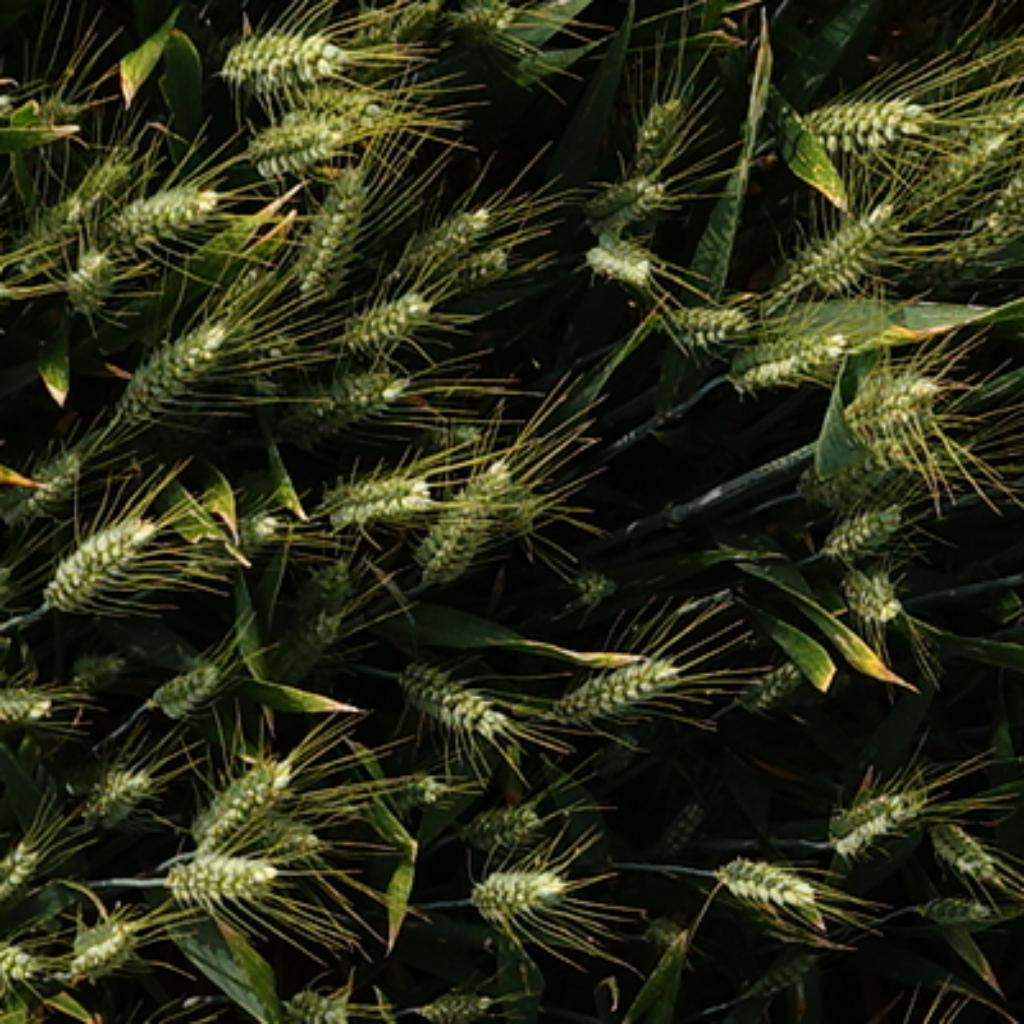0-0: (412, 445, 545, 583), (110, 302, 250, 422), (38, 501, 168, 611), (780, 197, 911, 296), (919, 89, 1024, 209), (537, 640, 686, 724), (721, 304, 862, 389), (184, 747, 296, 852), (286, 161, 373, 296), (394, 652, 514, 747), (216, 19, 357, 99), (279, 350, 409, 435), (837, 345, 947, 442), (796, 86, 934, 163), (235, 107, 366, 186), (110, 179, 238, 256), (391, 192, 501, 281), (801, 430, 929, 506), (816, 775, 921, 857), (0, 427, 89, 519), (317, 455, 432, 524), (939, 176, 1024, 268), (158, 837, 279, 901), (709, 842, 821, 908), (460, 852, 573, 916), (332, 281, 432, 348), (727, 645, 816, 719), (816, 491, 916, 555), (624, 81, 696, 168), (576, 161, 668, 225), (145, 645, 230, 714), (61, 901, 143, 972), (739, 944, 832, 1006), (76, 750, 156, 821), (450, 788, 545, 847), (921, 811, 1000, 880), (660, 289, 750, 345), (222, 483, 289, 558), (291, 74, 399, 117), (271, 970, 355, 1024), (412, 972, 499, 1024), (58, 238, 122, 307), (0, 829, 51, 911), (350, 2, 435, 51), (578, 225, 655, 279), (844, 563, 908, 627), (284, 606, 350, 668), (263, 816, 337, 867), (908, 890, 1000, 931), (442, 2, 524, 46), (296, 552, 355, 611), (217, 261, 273, 320), (404, 419, 494, 455), (645, 911, 704, 965), (450, 243, 517, 289), (64, 640, 128, 686), (560, 552, 616, 604), (15, 98, 94, 134), (0, 668, 53, 721), (391, 768, 448, 816), (0, 926, 46, 983), (40, 192, 87, 238)
